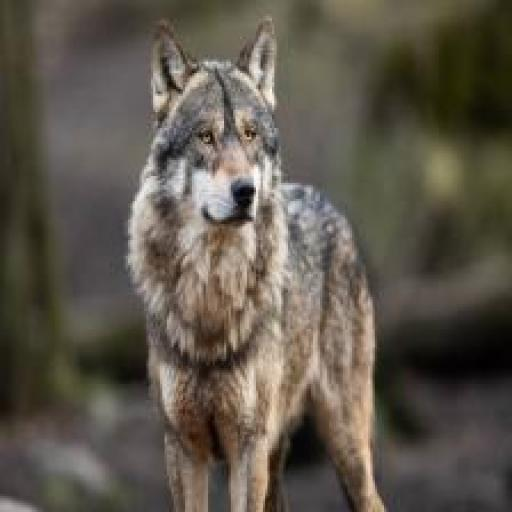wolf: (116, 0, 404, 512)
